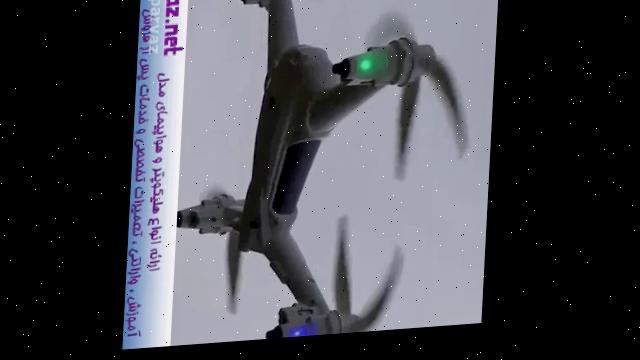drone: (174, 0, 482, 349)
